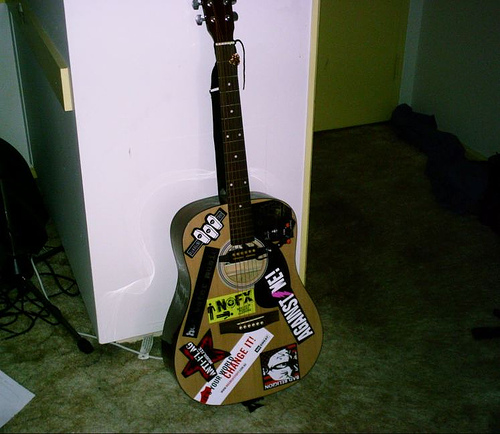guitar: (160, 2, 324, 407)
